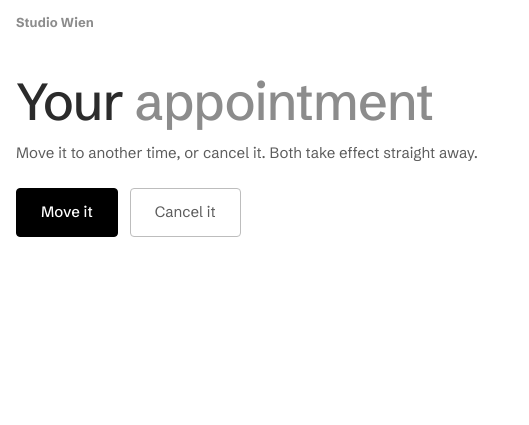
it: Manage › asks for times with the token, so the server picks the appointment's own service and stylist
What coordinates should you click on to do the following:
click the button "Move it"
I would click on:
 (67, 212)
Its box is [16,188,118,237].
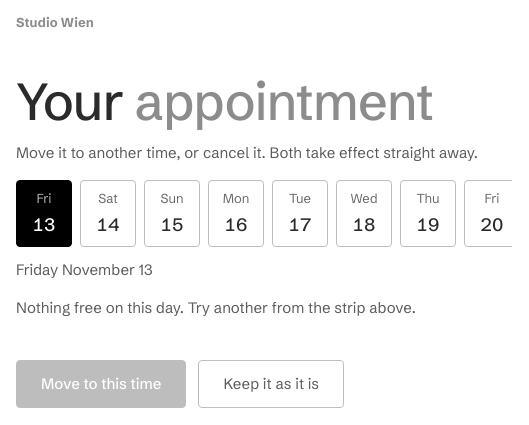
Result: the text "Nothing free on this day. Try another from the strip above." is shown at [16,298,416,317]
